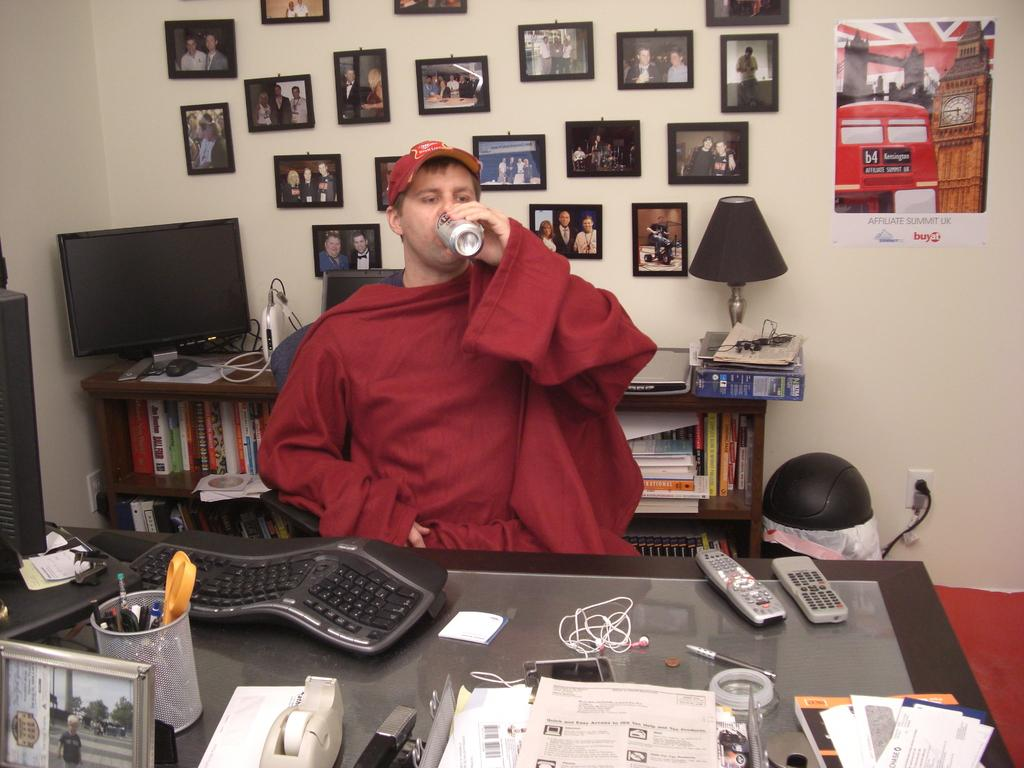Computer-keyboard: (123, 528, 449, 657)
Computer-monitor: (53, 212, 254, 376)
